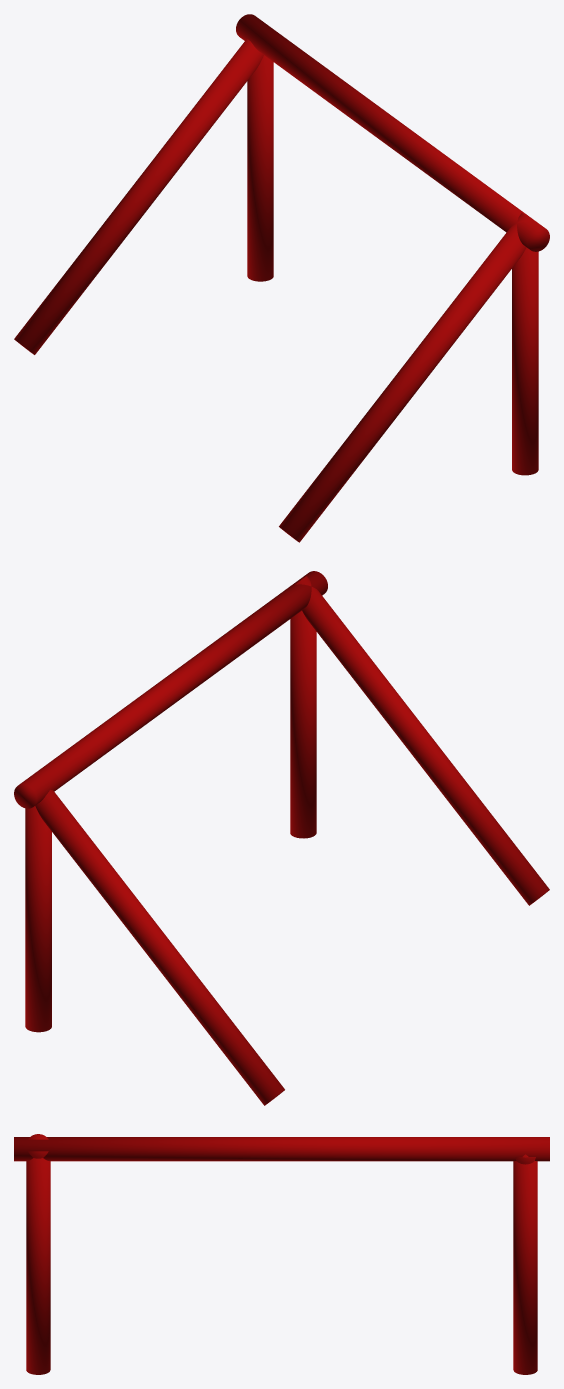
The model's file is Goal.obj.
3 views of the same model, one above another, from view 1: azimuth 30°, elevation 25°; view 2: azimuth 150°, elevation 25°; view 3: azimuth 270°, elevation 25° (orthographic). The views are drawn at different scales.
Parts seen in each view (by area): view 1: Cylinder.004, Cylinder.003, Cylinder.002, Cylinder, Cylinder.001; view 2: Cylinder.004, Cylinder.003, Cylinder.002, Cylinder, Cylinder.001; view 3: Cylinder.002, Cylinder, Cylinder.001.
Boxes of the visible parts, x1,y1,x2,y2 form: Cylinder.004: [279, 213, 532, 542]; Cylinder.003: [14, 39, 263, 354]; Cylinder.002: [236, 14, 549, 251]; Cylinder: [512, 247, 538, 475]; Cylinder.001: [247, 39, 273, 281]; Cylinder.004: [295, 576, 549, 905]; Cylinder.003: [35, 790, 284, 1105]; Cylinder.002: [14, 571, 327, 808]; Cylinder: [290, 610, 316, 838]; Cylinder.001: [25, 790, 51, 1032]; Cylinder.002: [14, 1137, 549, 1161]; Cylinder: [26, 1158, 50, 1374]; Cylinder.001: [513, 1154, 537, 1374].
Bounding box in the file's own units: 2.26 × 2.32 × 4.4.
